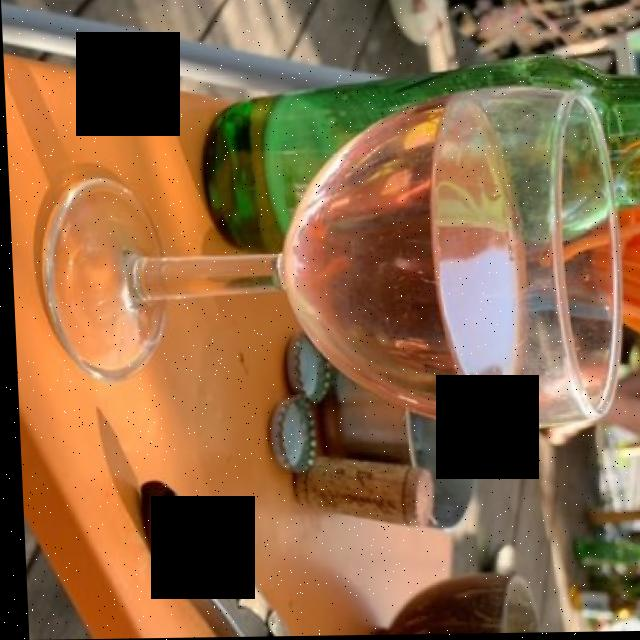wine-rose: (288, 90, 504, 422)
